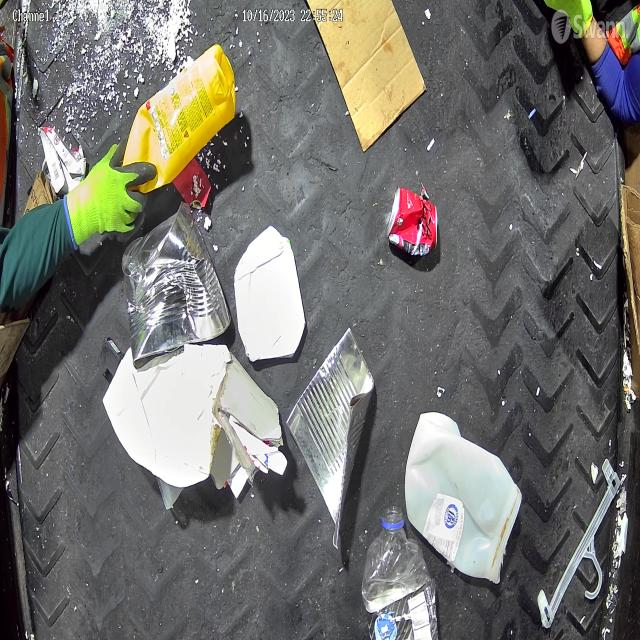can: (121, 200, 232, 371), (387, 185, 438, 256)
milk_jug: (404, 412, 522, 585)
non_white_jug: (123, 42, 237, 192)
plastic_bottle: (362, 506, 438, 640)
